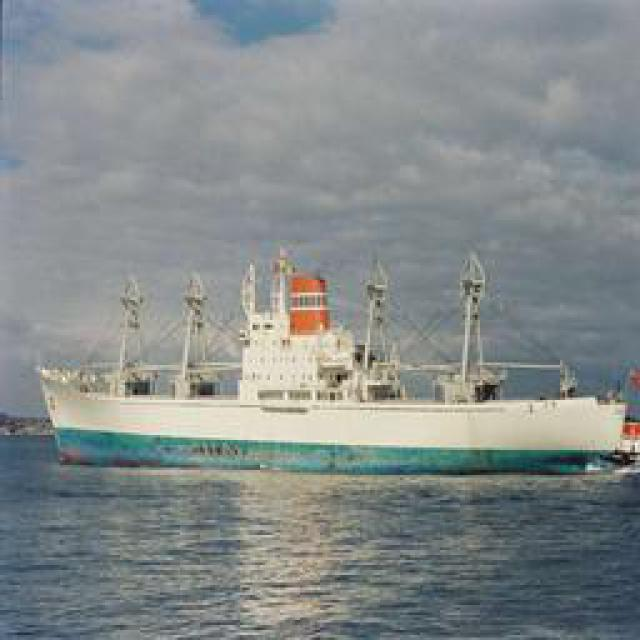Ship: (48, 255, 633, 475)
